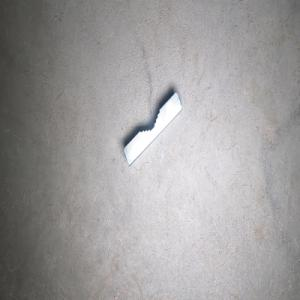ClampPart: (123, 90, 183, 166)
